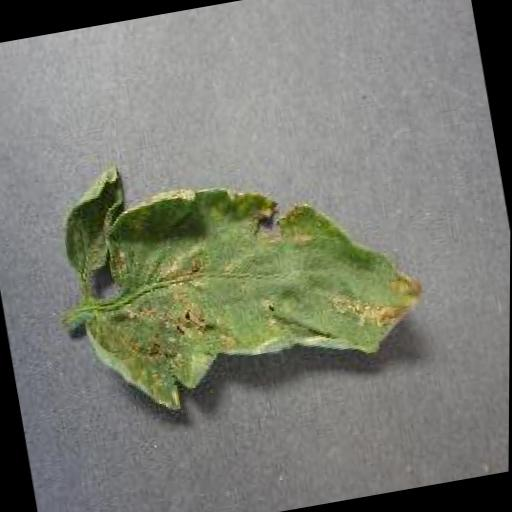Bacterial Spot: (51, 110, 446, 428)
